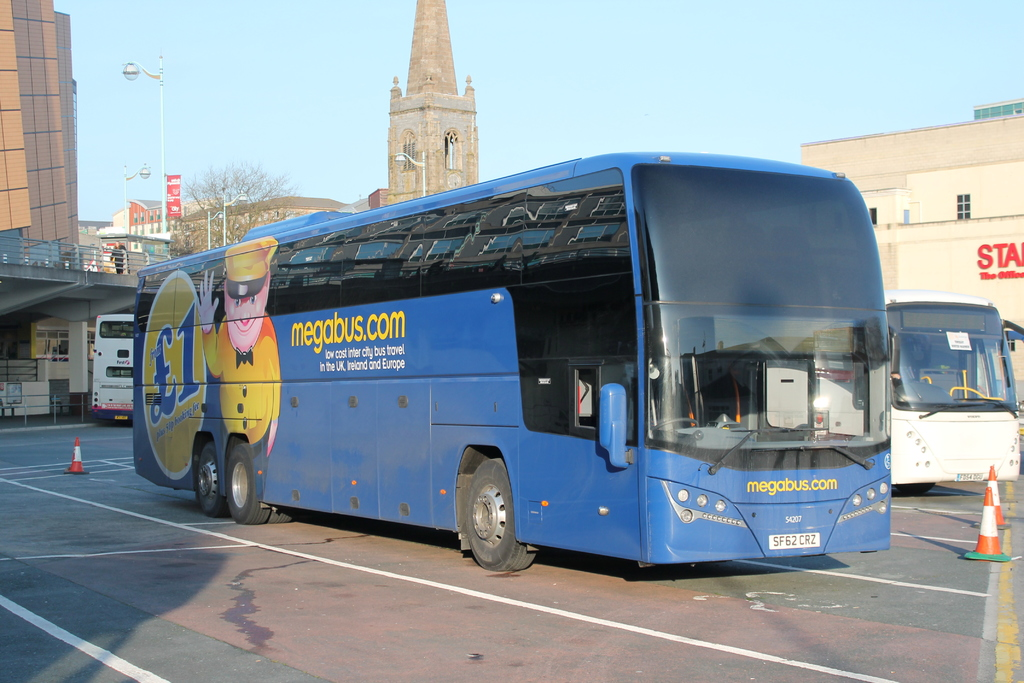Bus: (133, 146, 893, 573), (807, 284, 1023, 493), (88, 310, 140, 424)
